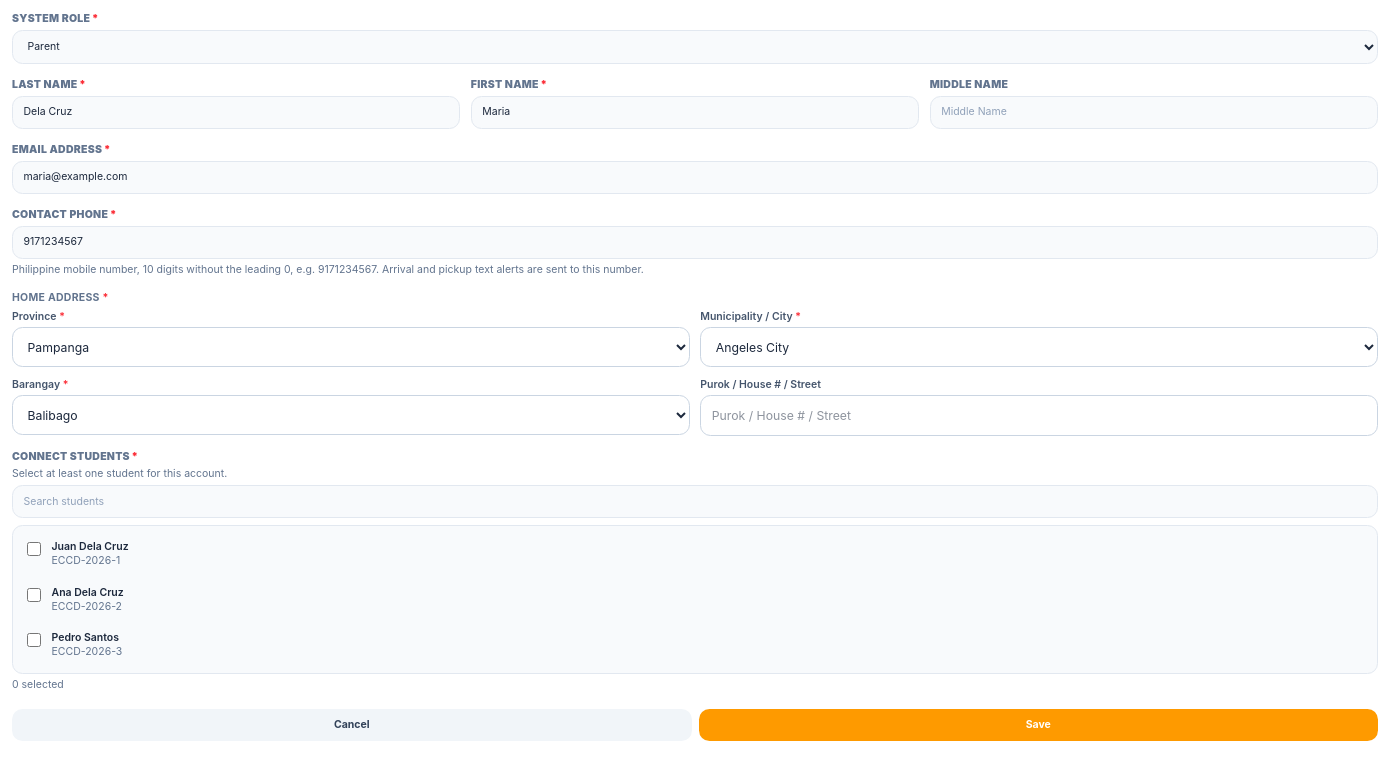
Test: AccountForm student picker › says so when the search matches nothing
The width and height of the screenshot is (1390, 780).
Type "zzz" into the search field labelled "Search students" at (695,502), box [12,485,1378,518]
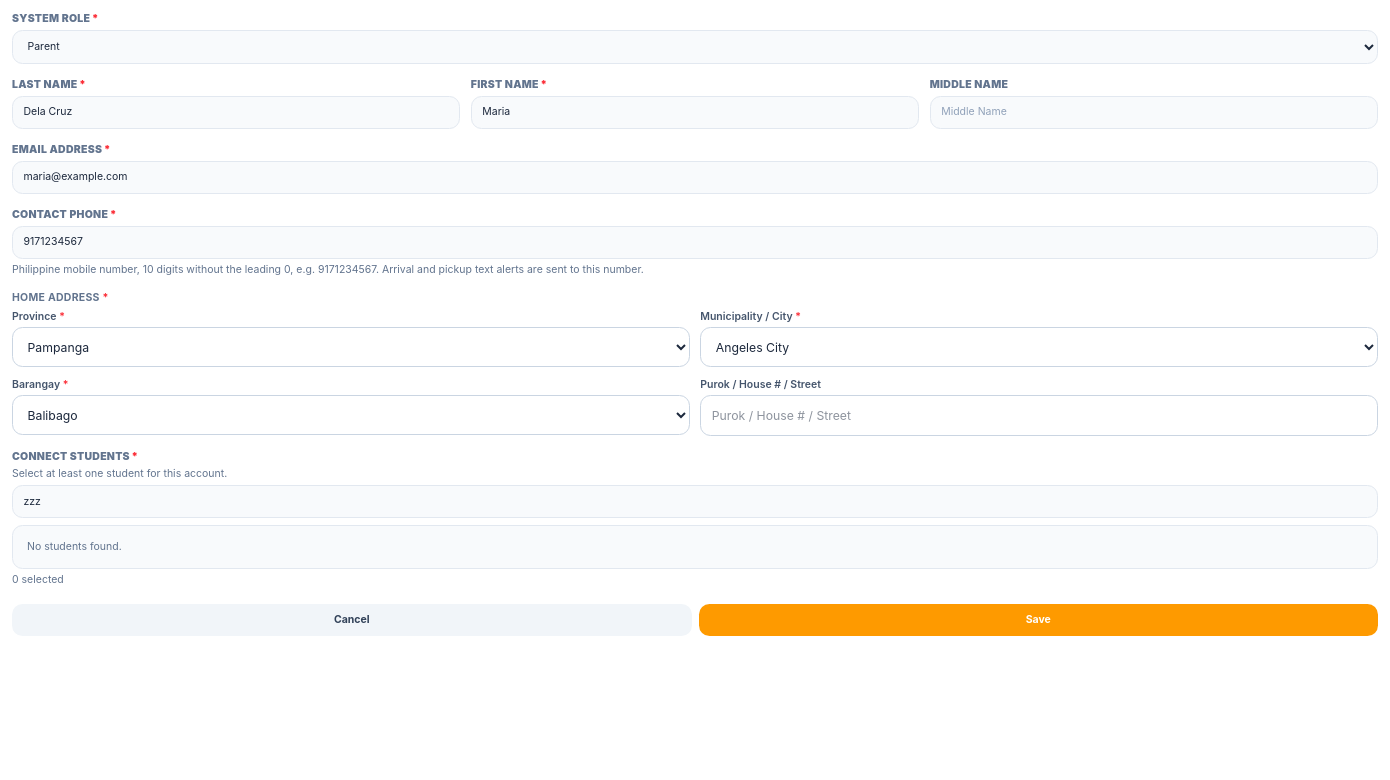
Expected: the text "No students found." is shown, [27,540,122,553]
